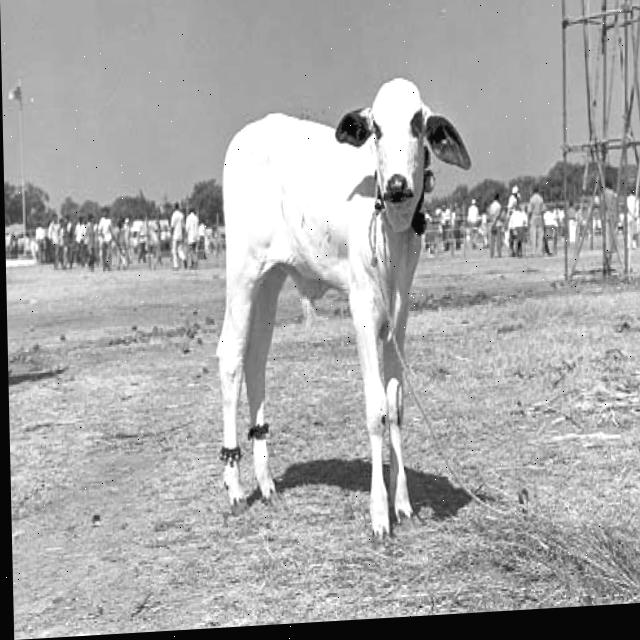Cow: (209, 71, 480, 555)
